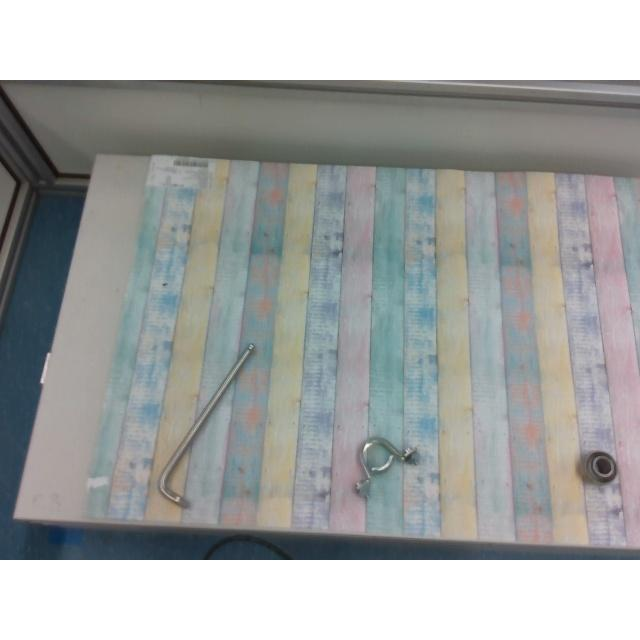AllenKey: (157, 341, 255, 507)
Bearing2: (582, 450, 618, 486)
Housing: (350, 436, 418, 496)
